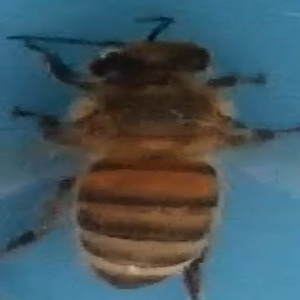bee: (7, 15, 290, 300)
